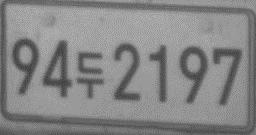1: (148, 42, 169, 103)
2: (113, 42, 141, 101)
4: (41, 39, 72, 99)
7: (212, 46, 242, 106)
9: (178, 45, 208, 103), (11, 37, 40, 95)
두: (75, 50, 105, 99)
